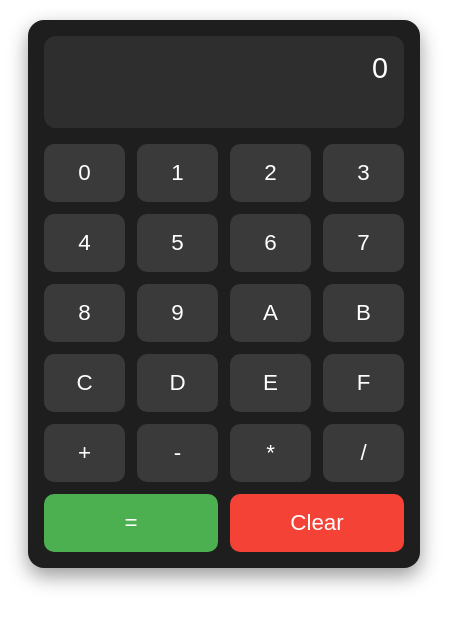
it: Hex Calculator GUI › error on subtracting to negative
Click the button "5": (178, 243) [137,214,218,272]
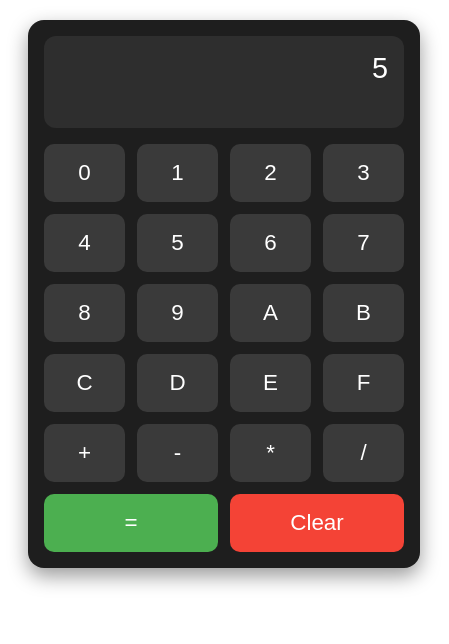
Click the button "-": (178, 453) [137,424,218,482]
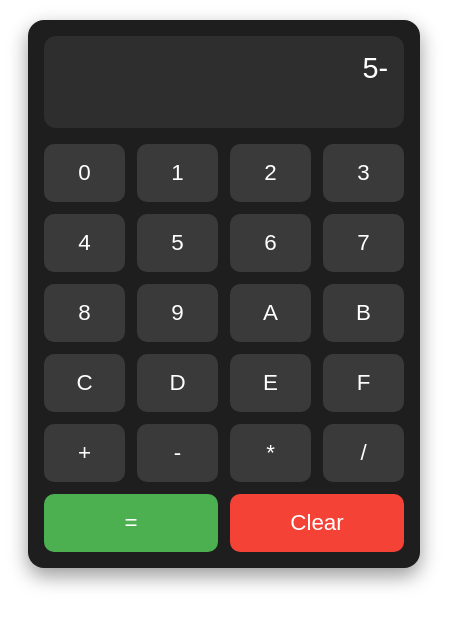
Click the button "A": (270, 313) [230,284,311,342]
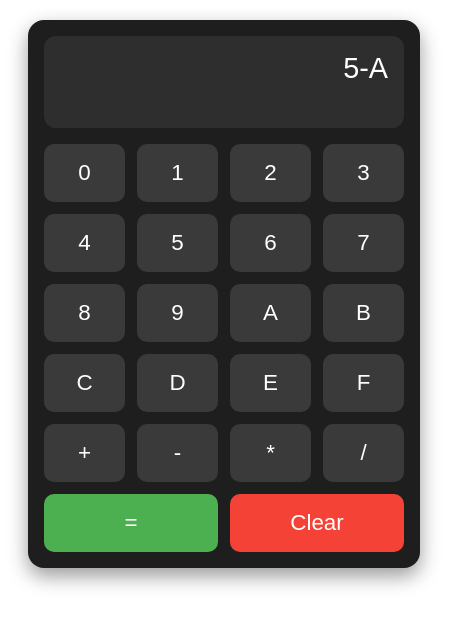
Click the button "=": (131, 523) [44,494,218,552]
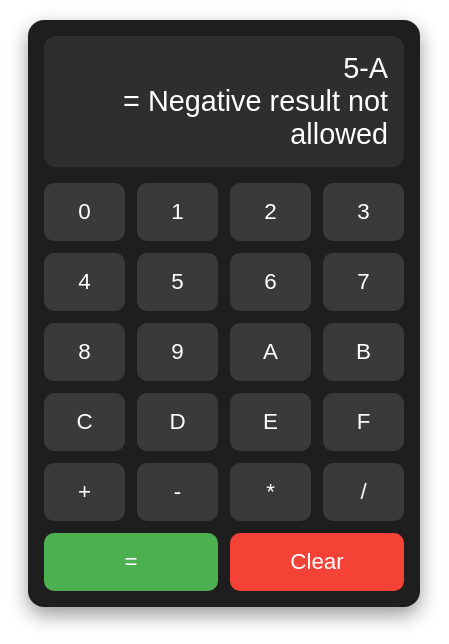
Now the text "= Negative result not allowed" is shown, box [123,85,388,150]
